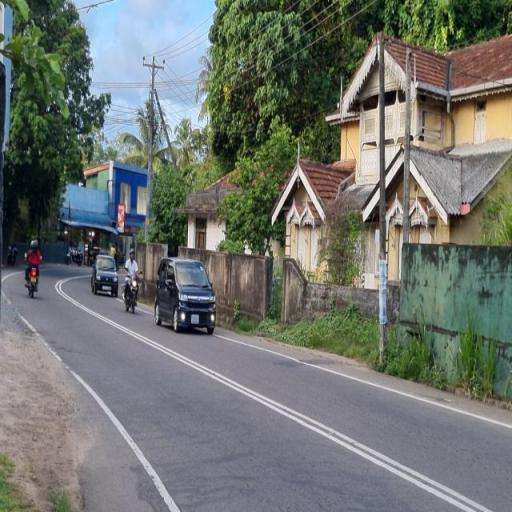double_white_line: (114, 299, 495, 512)
